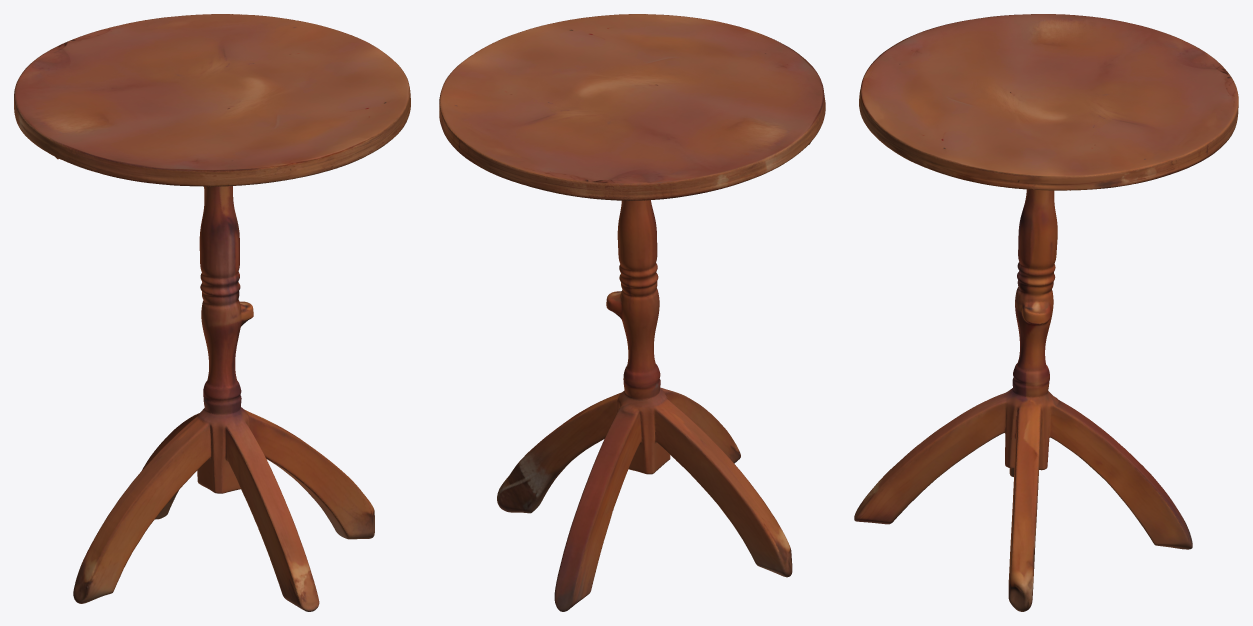
3 renders of one model, left to right at view 1: azimuth 30°, elevation 25°; view 2: azimuth 150°, elevation 25°; view 3: azimuth 270°, elevation 25°, orthographic. The views are drawn at different scales.
Parts seen in each view (by area): view 1: tripo_node_71b1ec2d-ad5a-460c-b255-53defdce0be6; view 2: tripo_node_71b1ec2d-ad5a-460c-b255-53defdce0be6; view 3: tripo_node_71b1ec2d-ad5a-460c-b255-53defdce0be6.
Part boxes in pixels (x1,y1,x2,y2): tripo_node_71b1ec2d-ad5a-460c-b255-53defdce0be6: (14,14,410,611); tripo_node_71b1ec2d-ad5a-460c-b255-53defdce0be6: (439,14,825,611); tripo_node_71b1ec2d-ad5a-460c-b255-53defdce0be6: (854,14,1238,611).
Size of the model in its own units: 0.7509 by 1 by 0.7585.
1 material, 1 textured.
